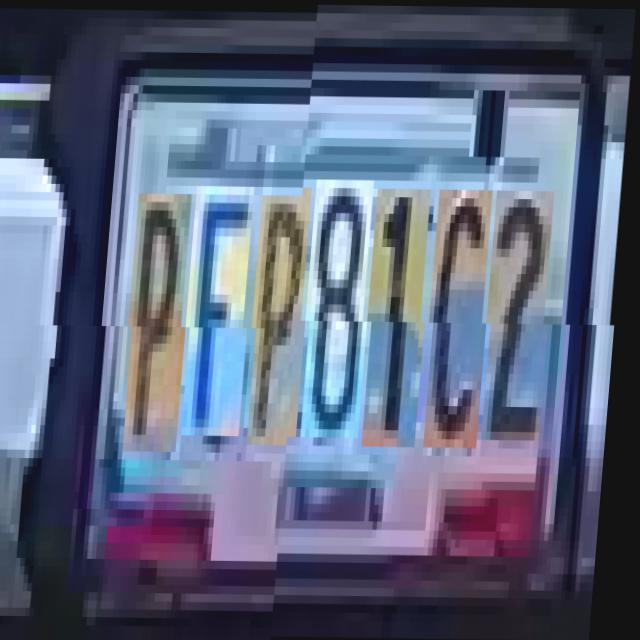1: (368, 196, 438, 454)
2: (488, 198, 561, 448)
8: (307, 186, 381, 444)
C: (430, 196, 500, 454)
F: (189, 186, 262, 436)
P: (130, 193, 200, 451), (254, 194, 318, 444)
